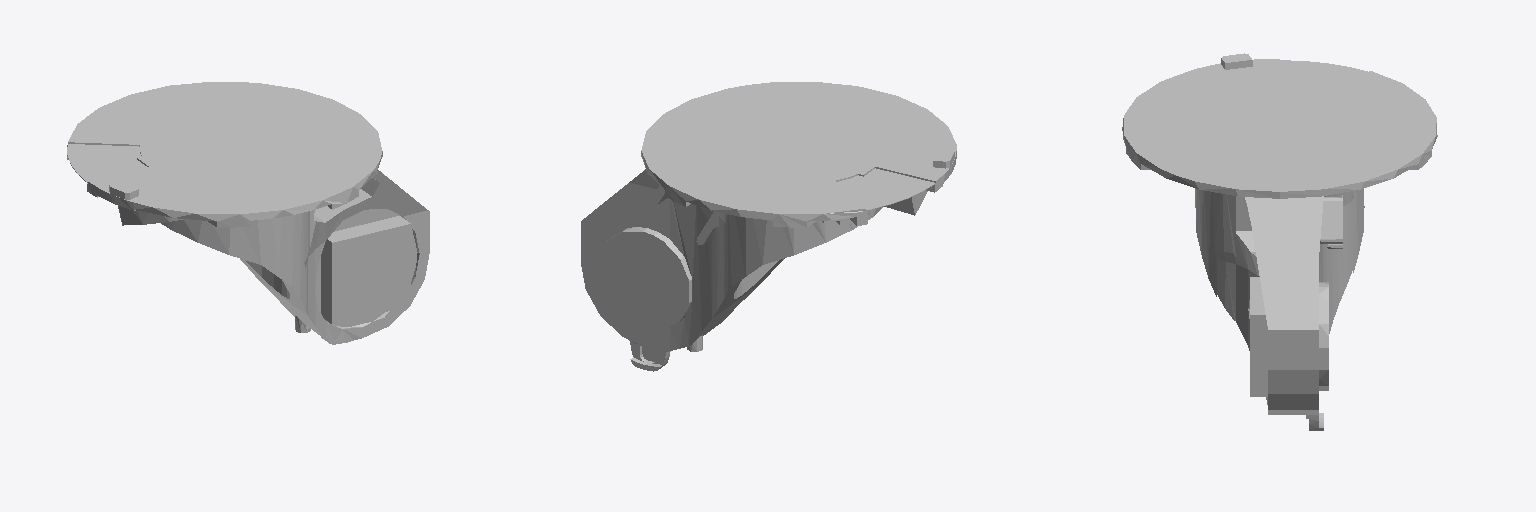
The model's file is kuka_seg_1.obj.
3 renders of one model, left to right at view 1: azimuth 30°, elevation 25°; view 2: azimuth 150°, elevation 25°; view 3: azimuth 270°, elevation 25°, orthographic.
Visible parts, largest first — view 1: Kuka_Seg_1; view 2: Kuka_Seg_1; view 3: Kuka_Seg_1.
Boxes of the visible parts, <box> form: Kuka_Seg_1: <box>67,82,429,344</box>; Kuka_Seg_1: <box>581,82,956,371</box>; Kuka_Seg_1: <box>1122,53,1437,430</box>.
Size of the model in its own units: 26.1 by 18.18 by 21.21.